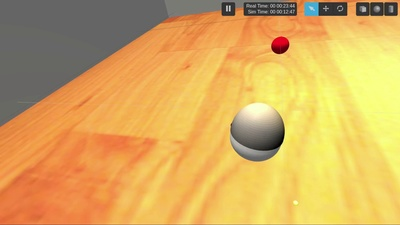mira_robot: (230, 103, 285, 161)
